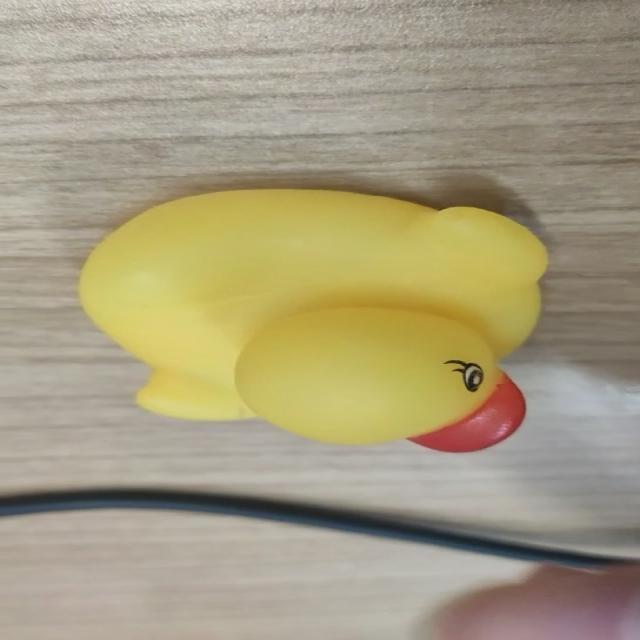rubber-duck: (78, 188, 545, 450)
